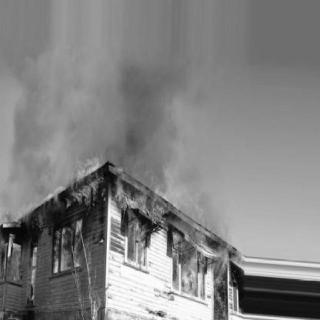Fire: (111, 165, 171, 271)
Smoke: (34, 30, 168, 152)
